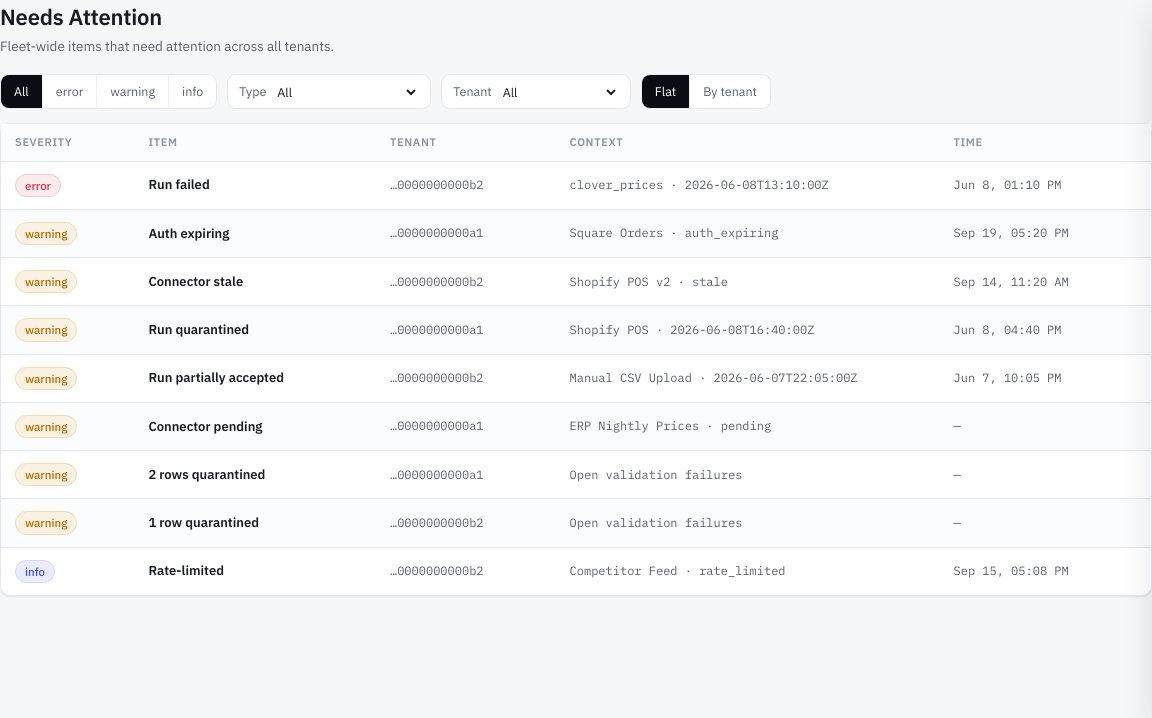
it: Needs attention — PLATFORM (fixture mode): filterable triage › group-by-tenant toggle switches from the flat table to per-tenant grouped cards
Expected: the heading "Needs Attention" is shown, x1=0 y1=2 x2=162 y2=31
What coordinates should you click on to do the following:
click the button "By tenant"
I would click on:
 (730, 92)
Its box is x1=690 y1=75 x2=770 y2=108.
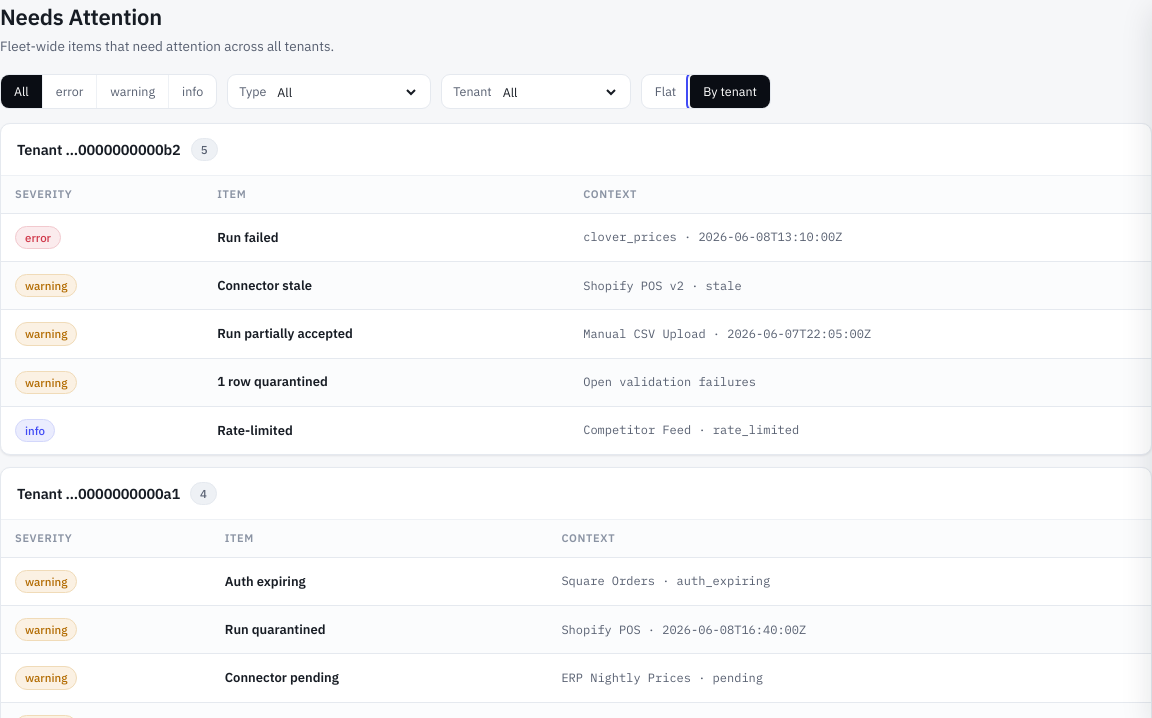
Result: the heading "Tenant …0000000000a1" is shown at x1=17 y1=483 x2=180 y2=505
